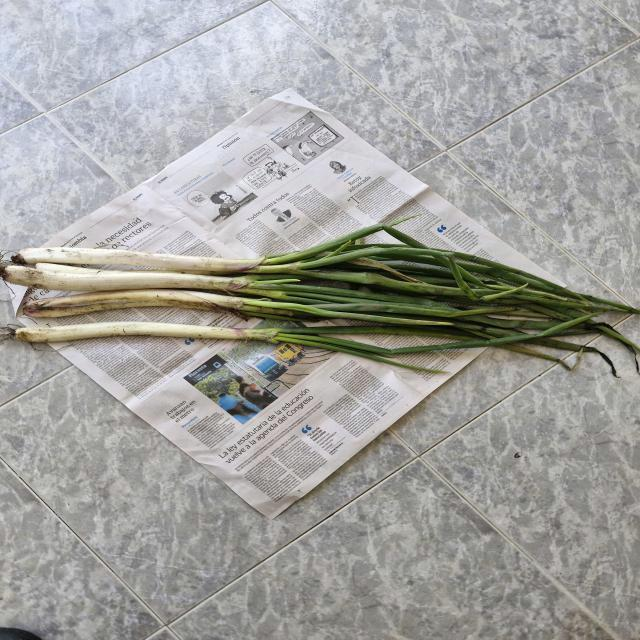green_onion: (10, 241, 640, 370)
